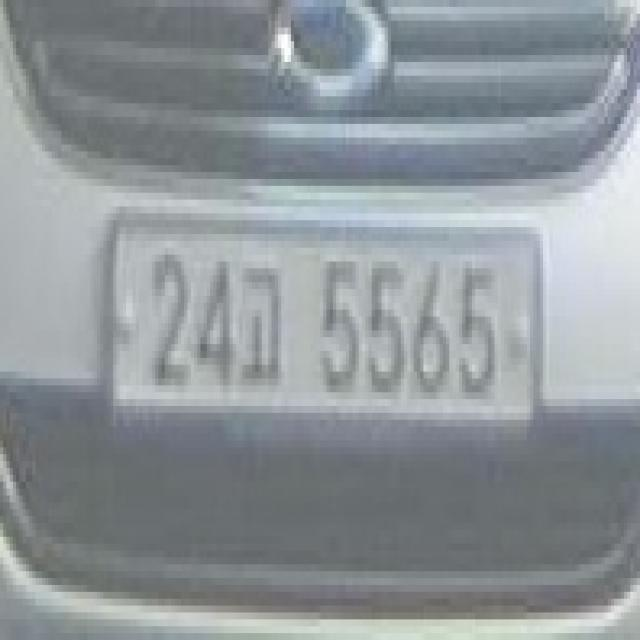2: (146, 243, 190, 392)
4: (196, 247, 238, 387)
5: (454, 249, 500, 415), (366, 248, 408, 408), (318, 249, 362, 394)
6: (416, 246, 452, 403)
go: (242, 248, 290, 396)
license_plate: (116, 210, 540, 430)
